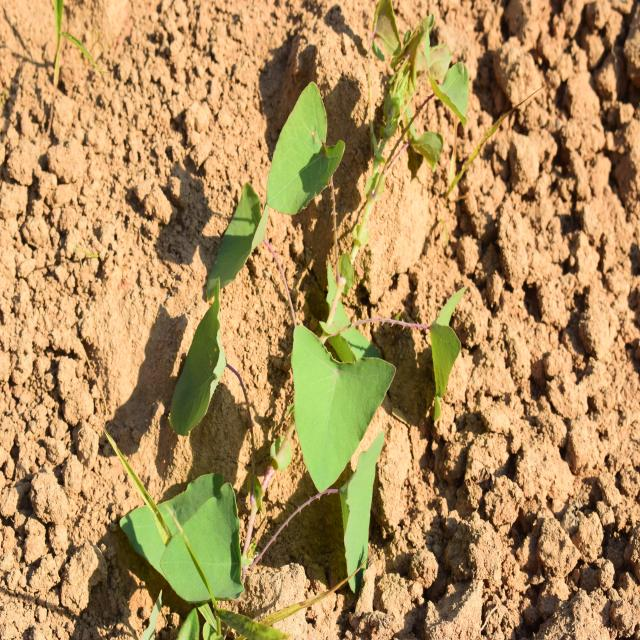Asiatic_Smartweed: (142, 78, 369, 458), (274, 296, 414, 568), (110, 440, 274, 616)
